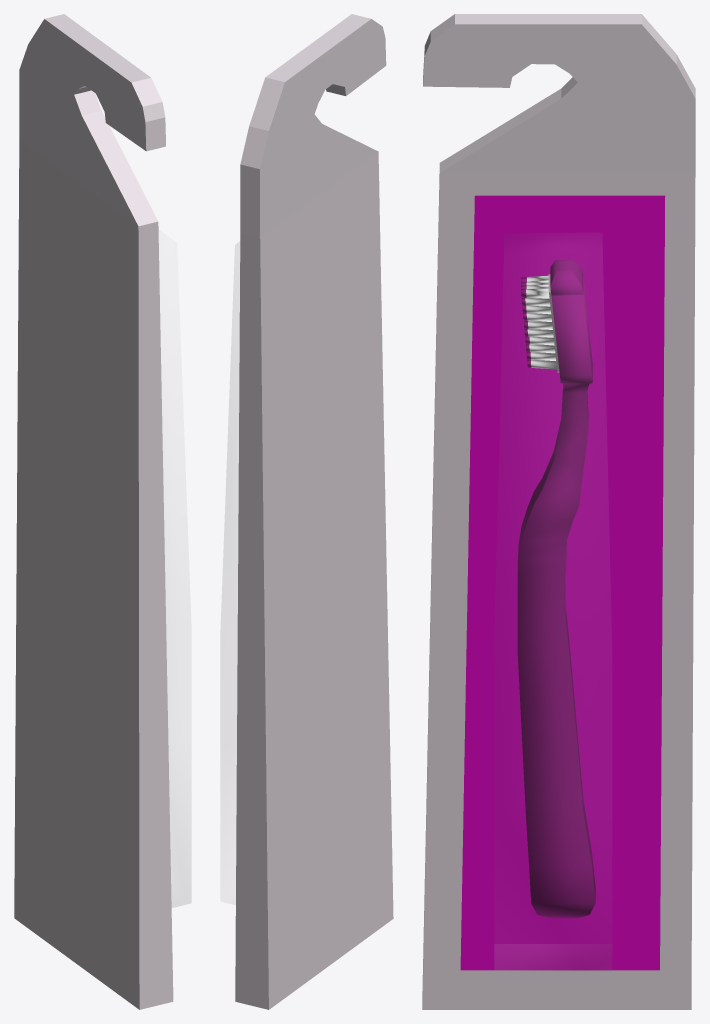
The model's file is cepilloROSA.fbx.
3 renders of one model, left to right at view 1: azimuth 30°, elevation 25°; view 2: azimuth 150°, elevation 25°; view 3: azimuth 270°, elevation 25°, orthographic. The views are drawn at different scales.
Visible parts, largest first — view 1: tabla.004, envase.004; view 2: tabla.004, envase.004; view 3: tabla.004, cepillo.004, envase.004.
Part boxes in pixels (bbox=[...]): tabla.004: bbox=[14, 14, 173, 1009]; envase.004: bbox=[159, 230, 190, 907]; tabla.004: bbox=[235, 14, 393, 1009]; envase.004: bbox=[221, 242, 239, 904]; tabla.004: bbox=[422, 14, 695, 1009]; cepillo.004: bbox=[517, 260, 595, 918]; envase.004: bbox=[495, 944, 611, 970].
Size of the model in its own units: 16.48 by 168 by 42.38.
